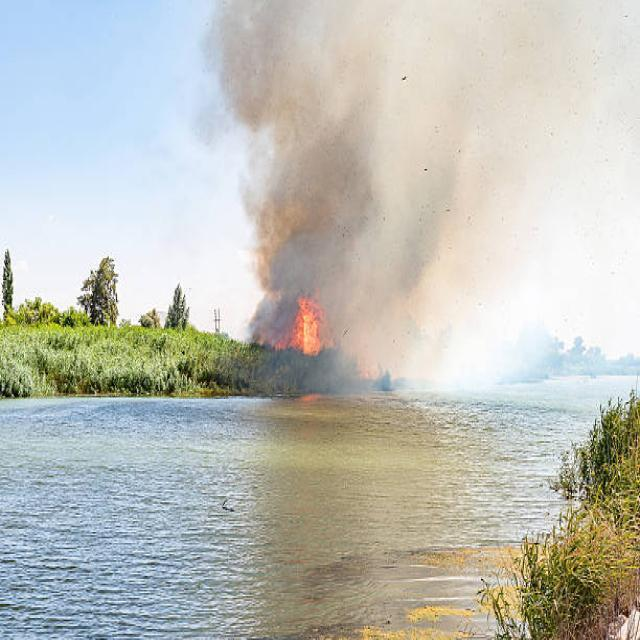Fire: (277, 292, 328, 358)
Smoke: (209, 1, 640, 386)
